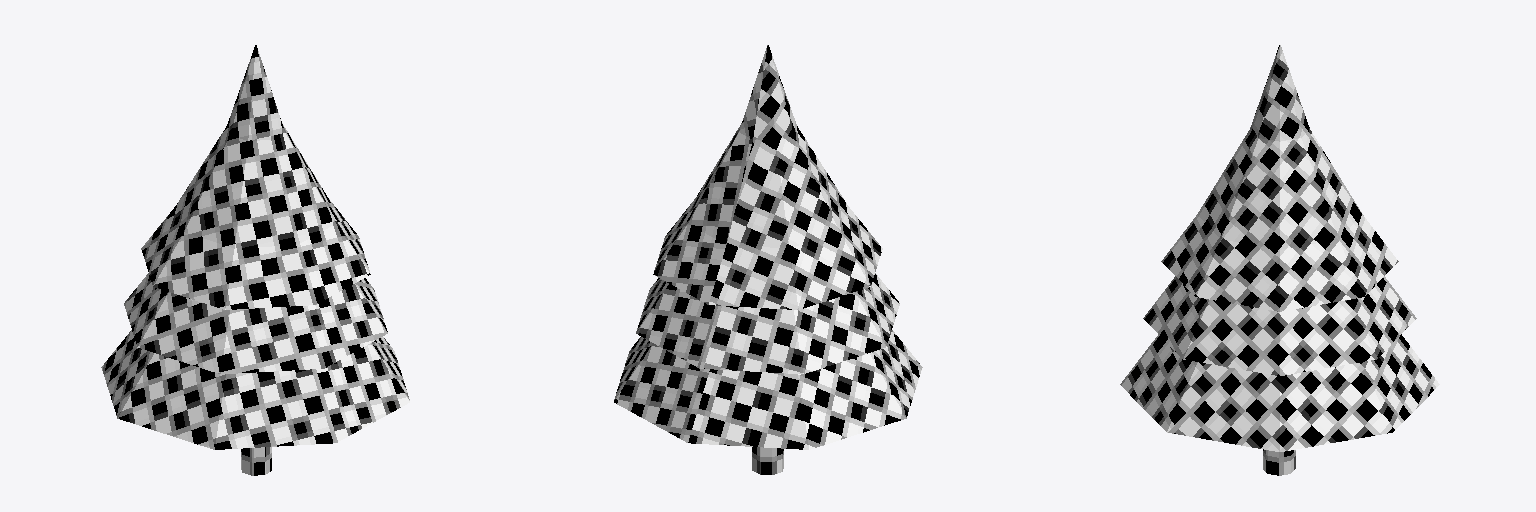
The picture shows the model from 3 angles: view 1: azimuth 30°, elevation 25°; view 2: azimuth 150°, elevation 25°; view 3: azimuth 270°, elevation 25°; orthographic projection.
Visible parts, largest first — view 1: Arbol_01; view 2: Arbol_01; view 3: Arbol_01.
Boxes of the visible parts, <box> form: Arbol_01: <box>101,45,409,475</box>; Arbol_01: <box>614,45,922,474</box>; Arbol_01: <box>1120,45,1439,475</box>.
Size of the model in its own units: 17.2 by 25.24 by 17.2.
Materials: 1 (1 with a texture image).